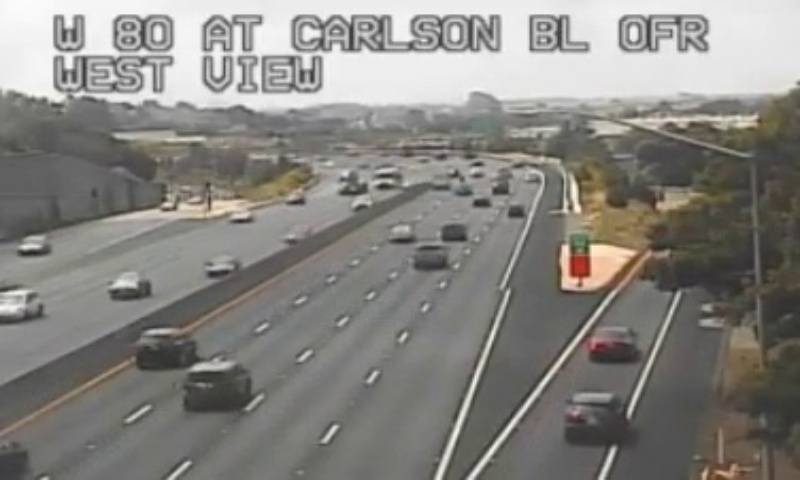car: (185, 362, 248, 409), (565, 393, 621, 442), (134, 326, 195, 368), (587, 324, 638, 359), (412, 243, 446, 267)
